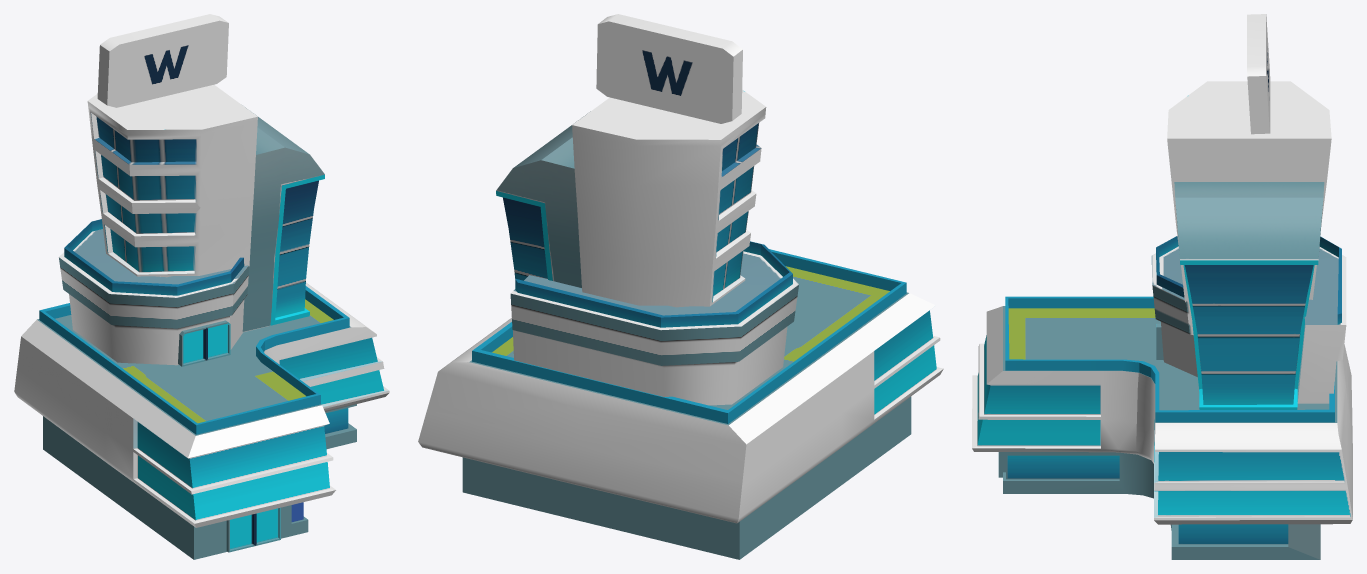
Rendered from Tx_Building_Con_White_03.fbx.
3 views of the same model, side by side, from view 1: azimuth 30°, elevation 25°; view 2: azimuth 150°, elevation 25°; view 3: azimuth 270°, elevation 25° (orthographic). The views are drawn at different scales.
Parts seen in each view (by area): view 1: Bottom_Building_Roof, Top_Building_Middle, Top_Building_Left, Top_Building_Right, Top_Building_Title, Bottom_Building, Bottom_Building_Roof_Handle, Top_Building_Left_Roof_Handle, Top_Building_Left_Door_Frame, Bottom_Building_Door_Window1, Bottom_Building_Door_Window, Top_Building_Left_Door_Window (+2 smaller); view 2: Bottom_Building_Roof, Top_Building_Middle, Top_Building_Left, Bottom_Building, Top_Building_Title, Top_Building_Right, Bottom_Building_Roof_Handle, Top_Building_Left_Roof_Handle; view 3: Bottom_Building_Roof, Top_Building_Right, Top_Building_Middle, Bottom_Building, Top_Building_Left, Bottom_Building_Roof_Handle, Top_Building_Title, Top_Building_Left_Roof_Handle.
Boxes of the visible parts, x1,y1,x2,y2 form: Bottom_Building_Roof: (14,282,389,527); Top_Building_Middle: (87,85,257,277); Top_Building_Left: (58,229,248,365); Top_Building_Right: (242,107,324,332); Top_Building_Title: (97,14,228,107); Bottom_Building: (43,404,356,559); Bottom_Building_Roof_Handle: (39,286,349,434); Top_Building_Left_Roof_Handle: (64,219,244,295); Top_Building_Left_Door_Frame: (178,320,230,366); Bottom_Building_Door_Window1: (256,508,278,542); Bottom_Building_Door_Window: (230,514,252,549); Top_Building_Left_Door_Window: (183,329,204,363); Bottom_Building_Roof: (418,266,943,523); Top_Building_Middle: (572,90,766,307); Top_Building_Left: (510,251,798,405); Bottom_Building: (462,396,911,559); Top_Building_Title: (596,14,742,123); Top_Building_Right: (496,111,590,287); Bottom_Building_Roof_Handle: (472,249,906,423); Top_Building_Left_Roof_Handle: (515,241,792,327); Bottom_Building_Roof: (972,306,1352,524); Top_Building_Right: (1174,182,1324,409); Top_Building_Middle: (1167,81,1331,302); Bottom_Building: (1003,452,1320,559); Top_Building_Left: (1151,246,1346,403); Bottom_Building_Roof_Handle: (1005,296,1334,422); Top_Building_Title: (1247,14,1270,134); Top_Building_Left_Roof_Handle: (1156,236,1341,324).
Size of the model in its own units: 65.02 by 92.88 by 72.53.
